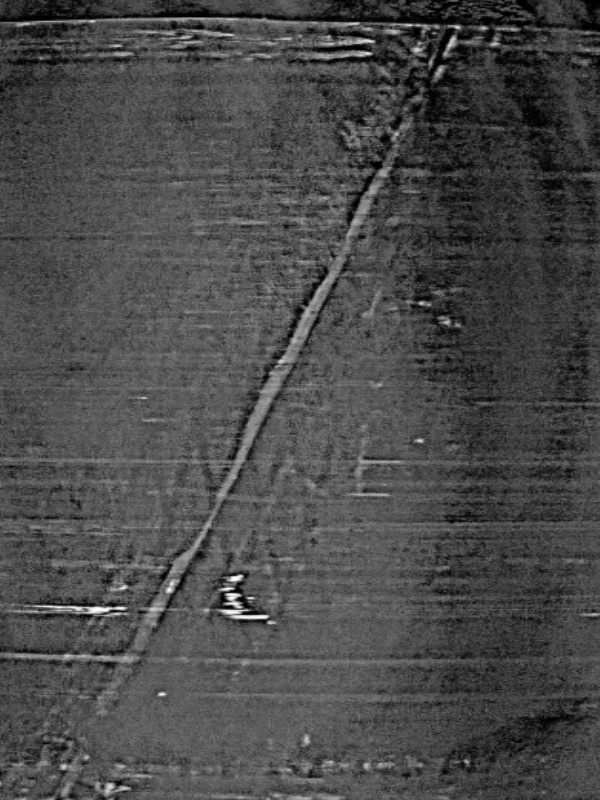splice_vulcanized: (2, 25, 492, 800)
